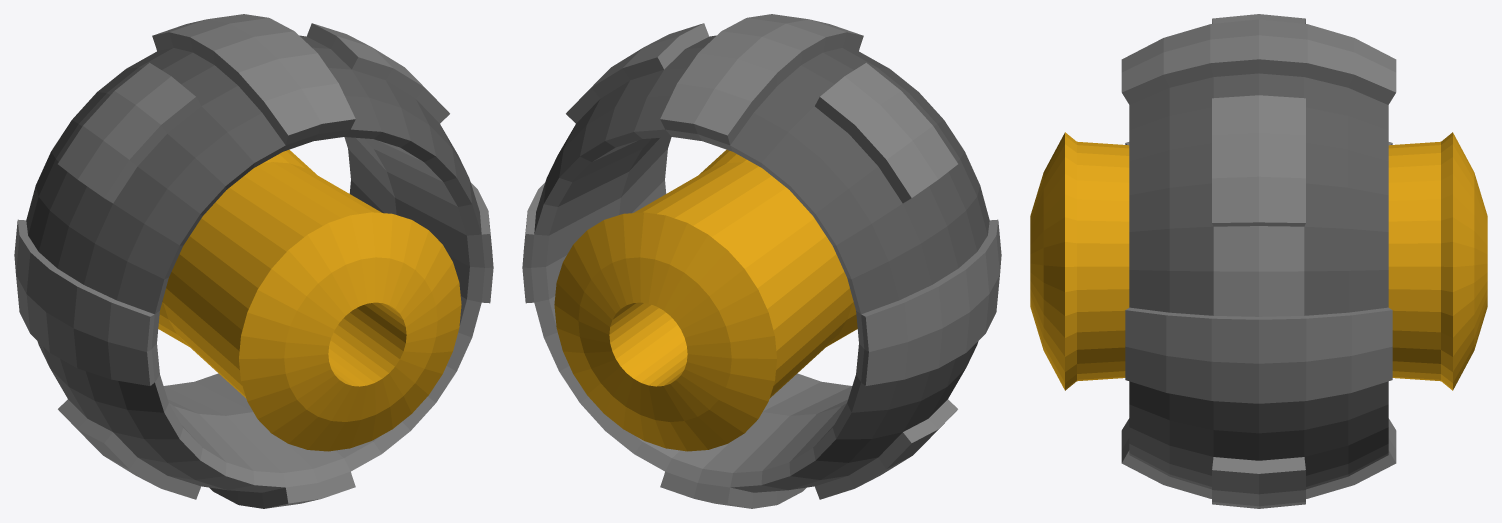
Rendered from Player.glb.
The picture shows the model from 3 angles, left to right: view 1: azimuth 30°, elevation 25°; view 2: azimuth 150°, elevation 25°; view 3: azimuth 270°, elevation 25°; orthographic projection.
Visible parts, largest first — view 1: PlayerBall; view 2: PlayerBall; view 3: PlayerBall.
Boxes of the visible parts, bbox=[...] form: PlayerBall: bbox=[14, 14, 493, 508]; PlayerBall: bbox=[522, 14, 1001, 508]; PlayerBall: bbox=[1030, 14, 1487, 508].
Size of the model in its own units: 2.08 by 2.14 by 1.96.
